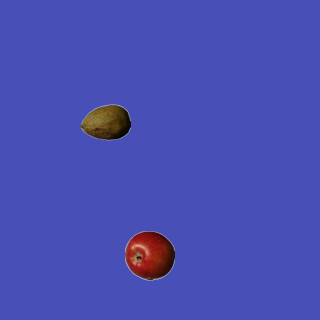Apple Braeburn: (124, 230, 174, 280)
Papaya: (80, 97, 130, 147)
